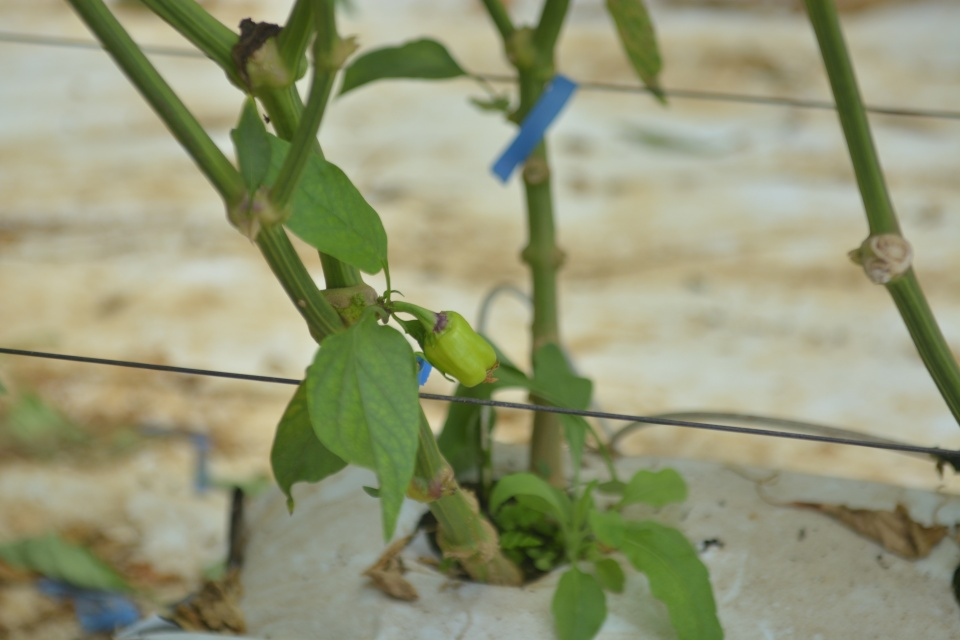immature: (420, 307, 501, 389)
